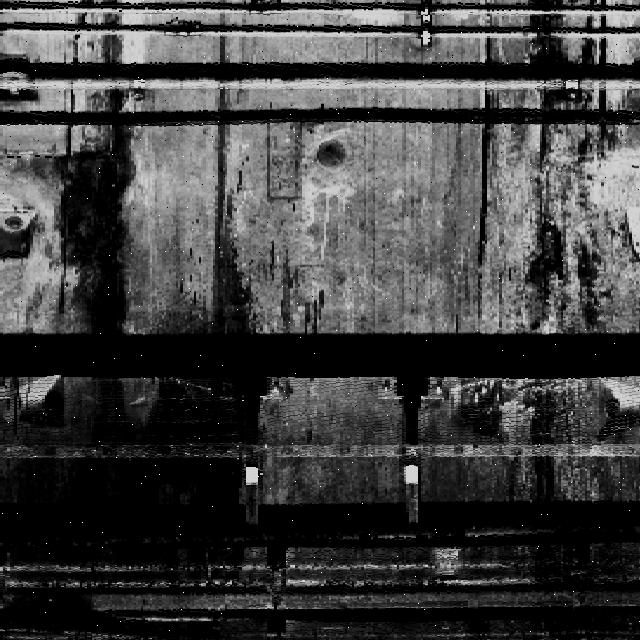leakage: (3, 0, 154, 638), (479, 0, 640, 335), (152, 103, 262, 518), (458, 377, 640, 504)
